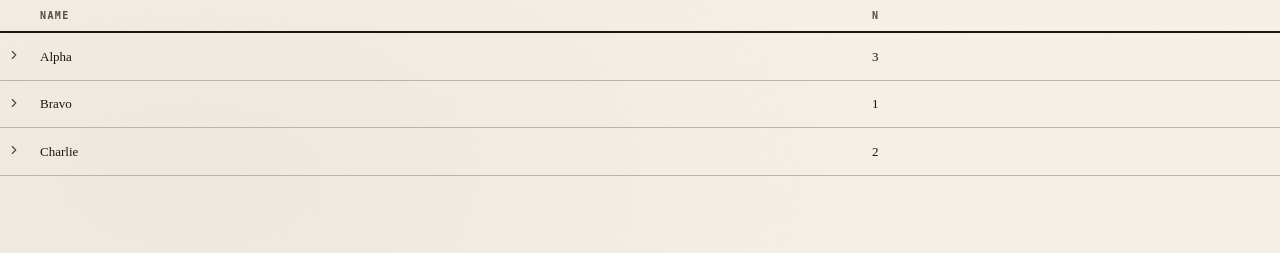
Test case: ExpandableTable › reveals the expanded body when a row is clicked, and hides it again
Click the text "Alpha" at (640, 56), box [0,32,1279,80]
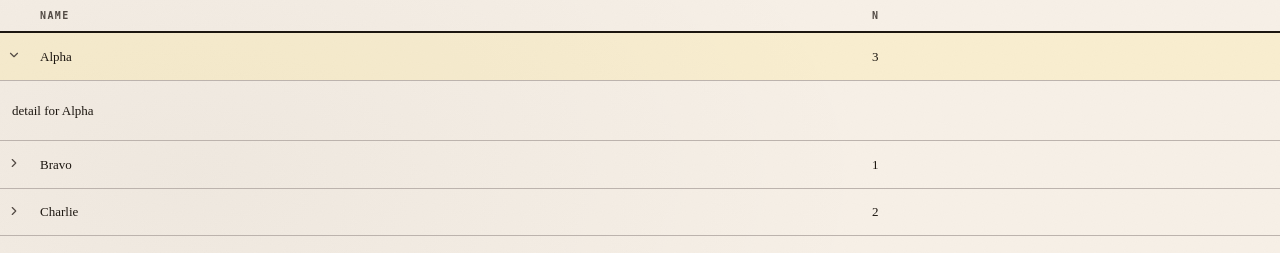
Expected: the text "detail for Alpha" is shown, [12,102,94,118]
Click the text "Alpha" at (640, 56), box [0,32,1279,80]
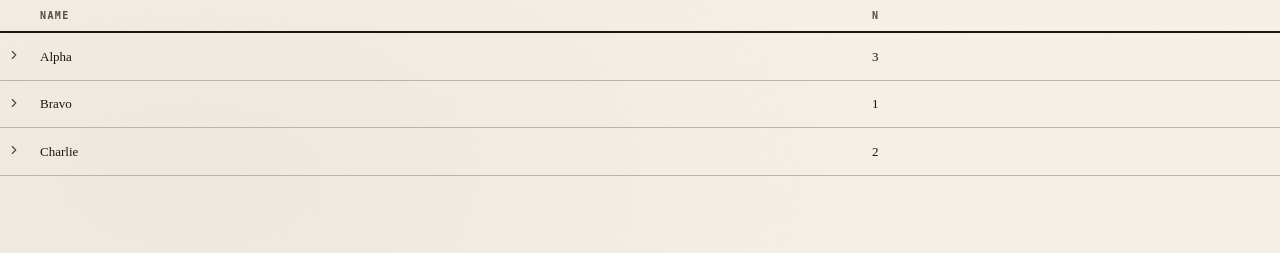
Expected: the text "detail for Alpha" is gone
